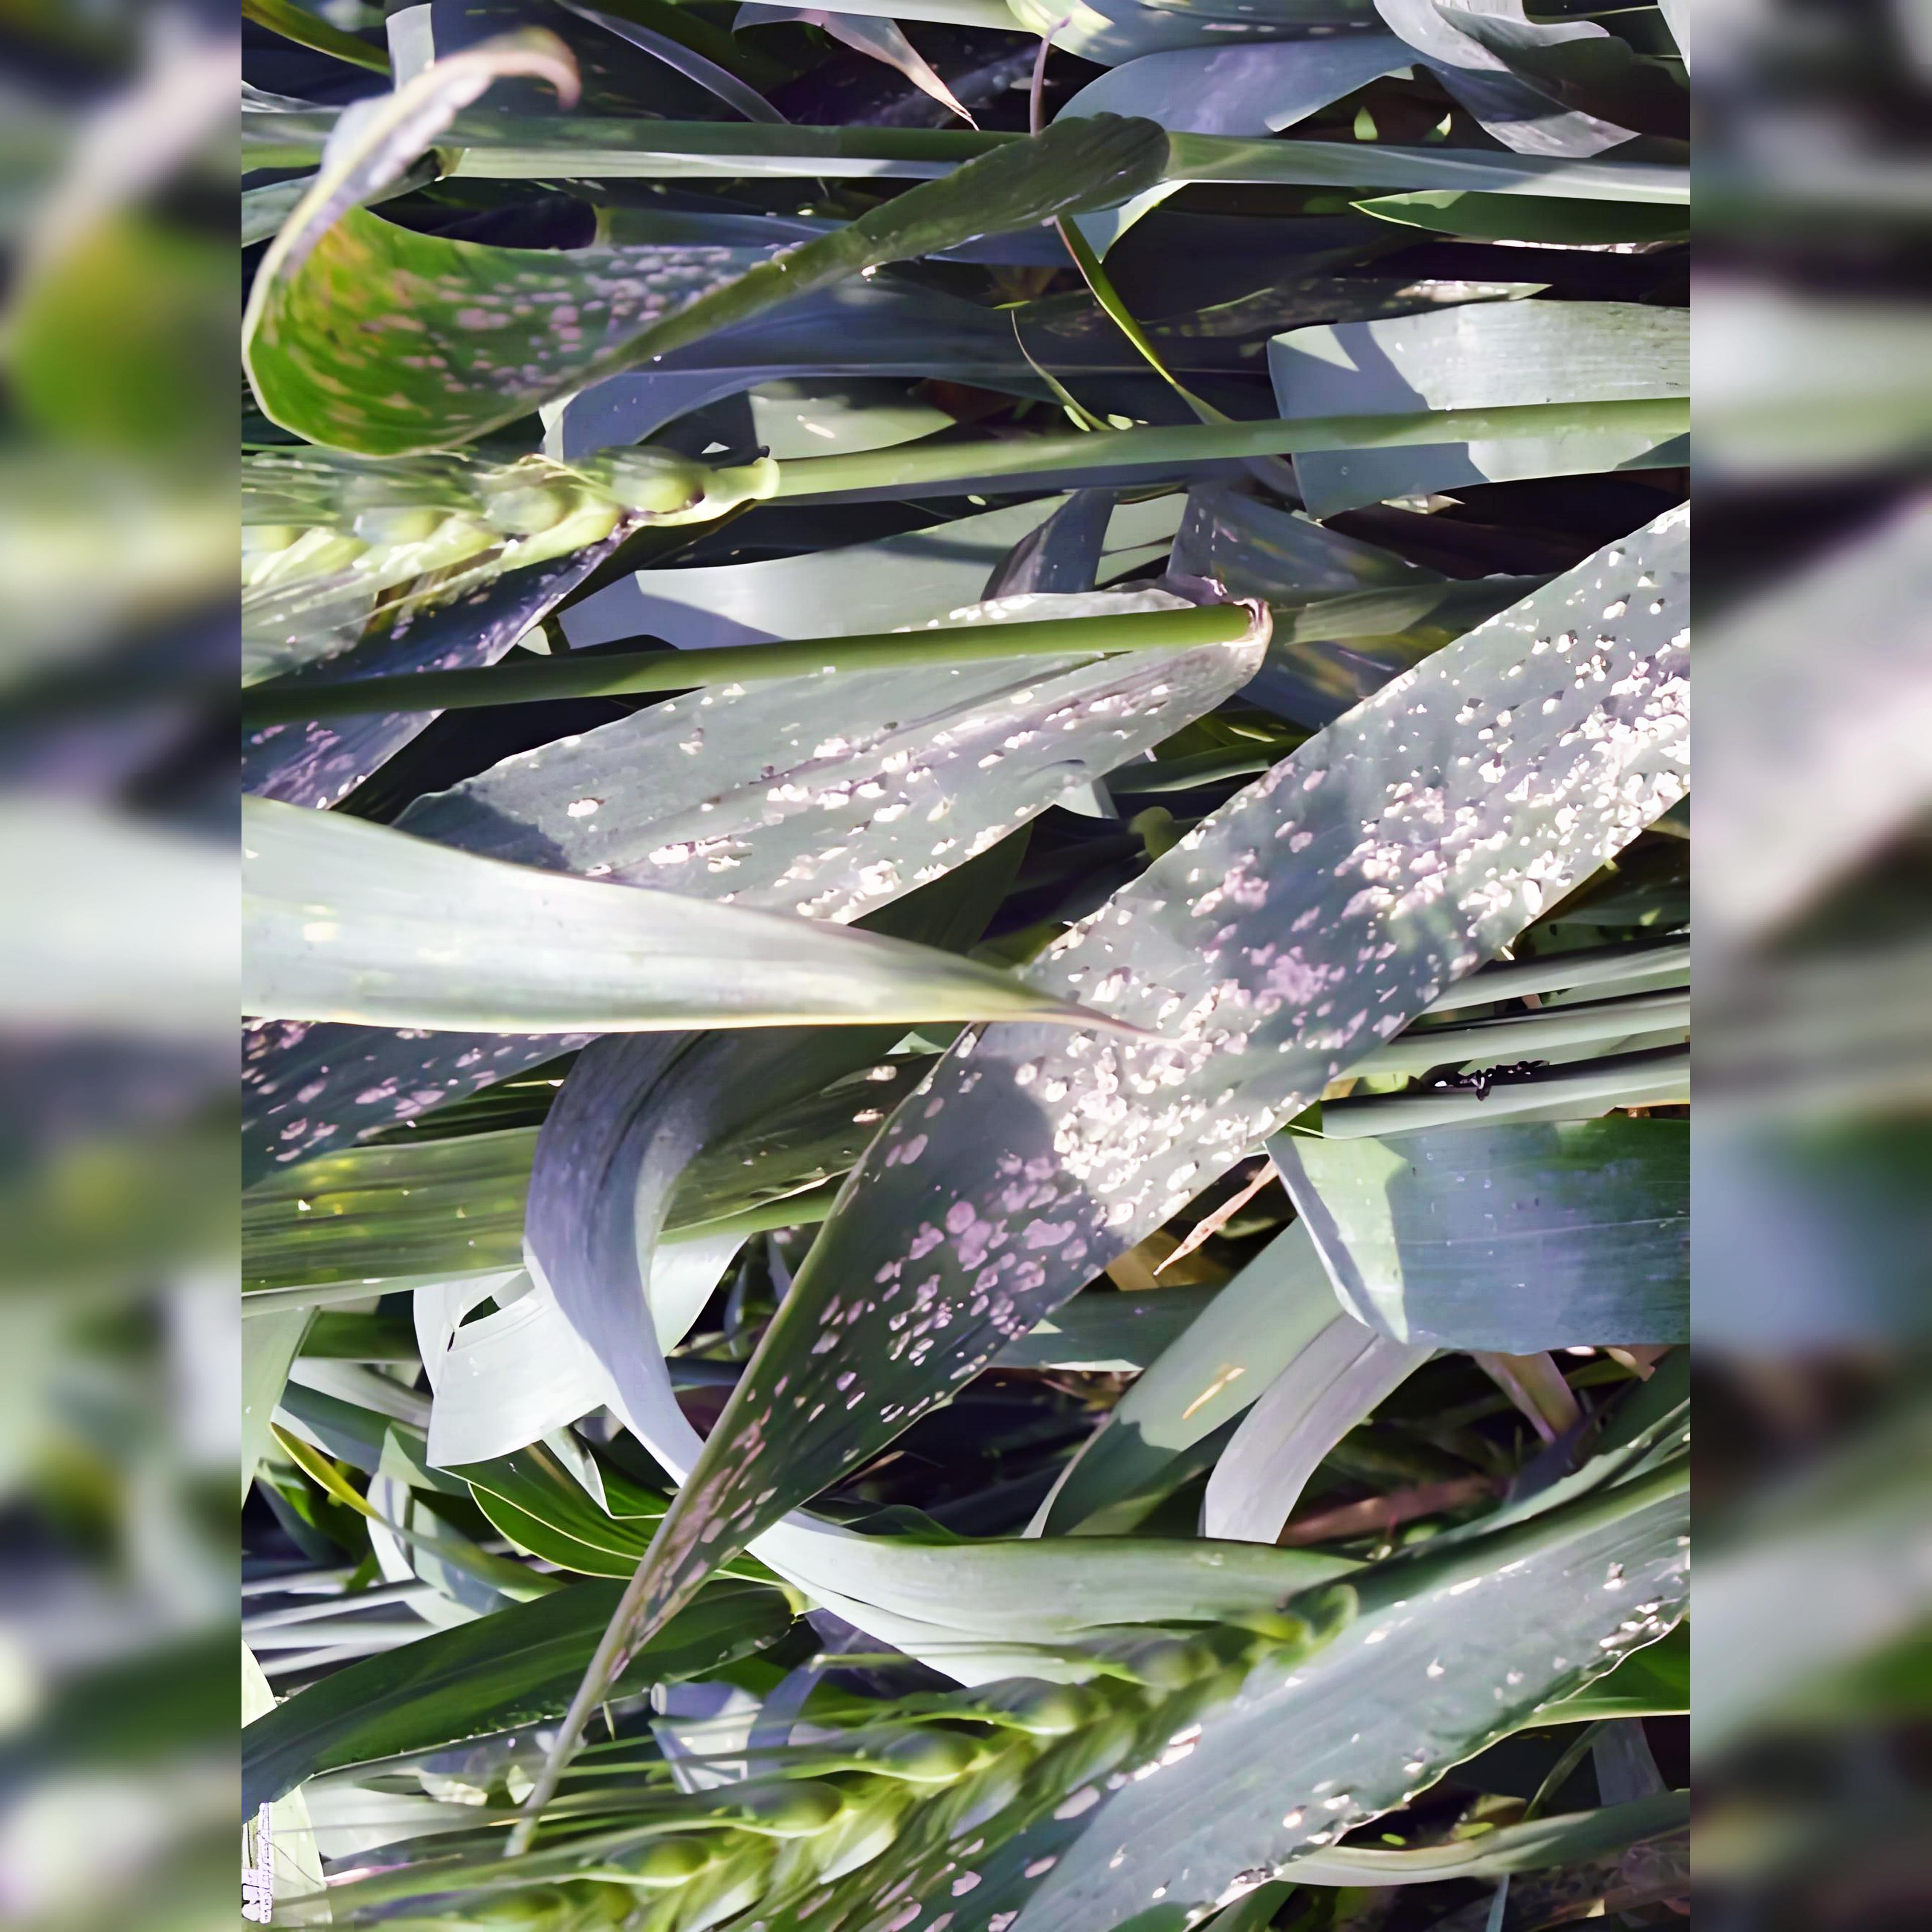Powdery Mildew: (851, 587, 1707, 1389)
